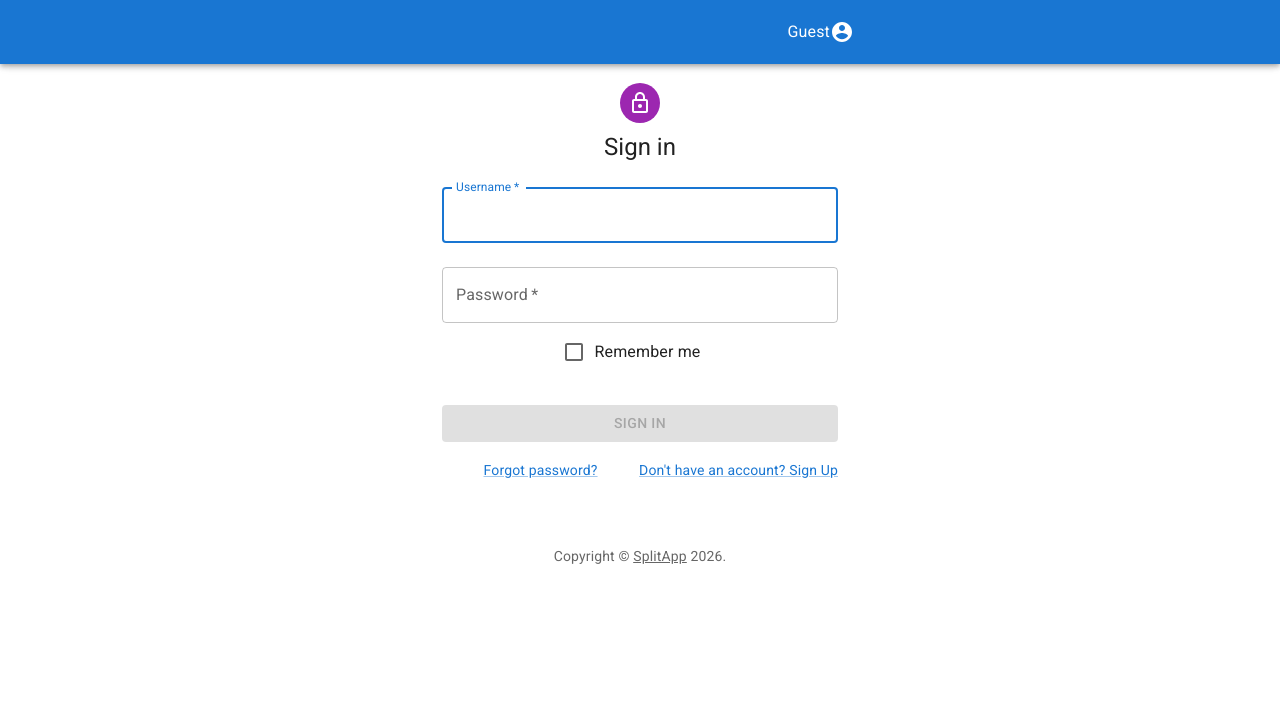
Test: SignIn component › Entering data
The width and height of the screenshot is (1280, 720).
Expected: the password field labelled "Password *" is shown, [442,267,838,323]
Expected: the button "Sign In" is disabled, [442,405,838,442]
Type "Some username" into the field labelled "Username *". click: [640, 215]
box: [442,187,838,243]
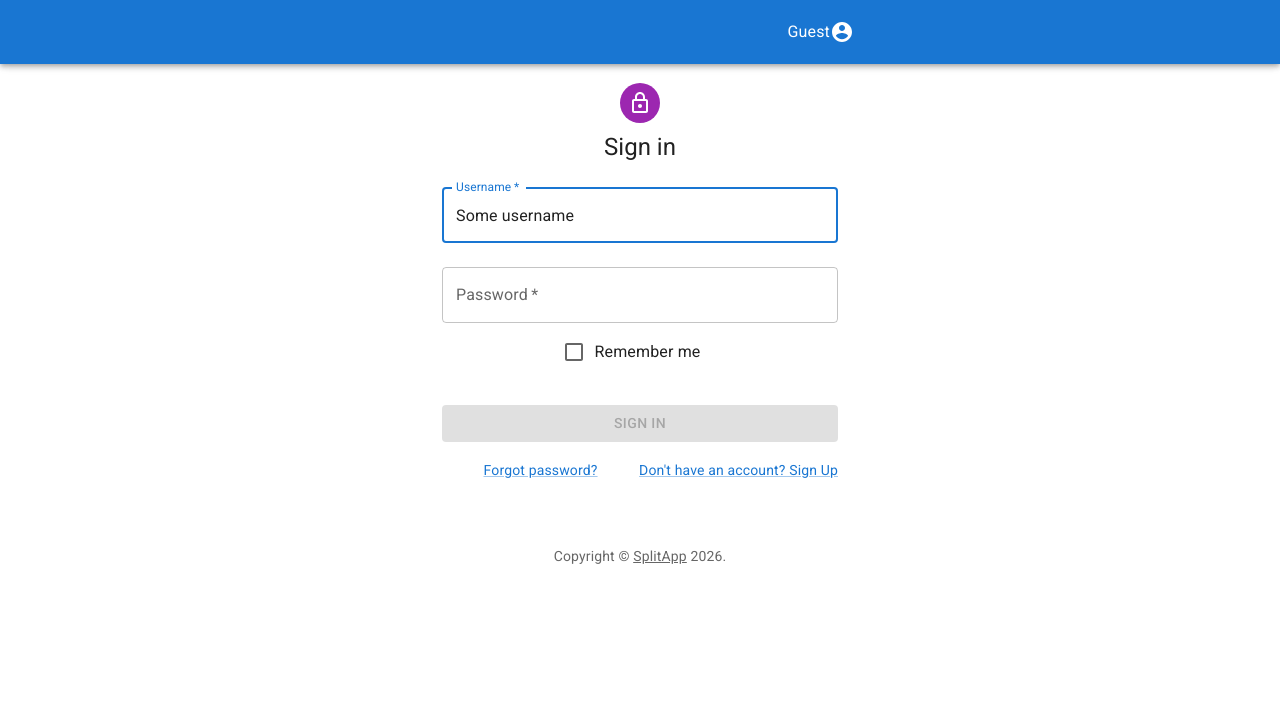
Type "Some passowrd" into the password field labelled "Password *". click: [640, 295]
box: [442,267,838,323]
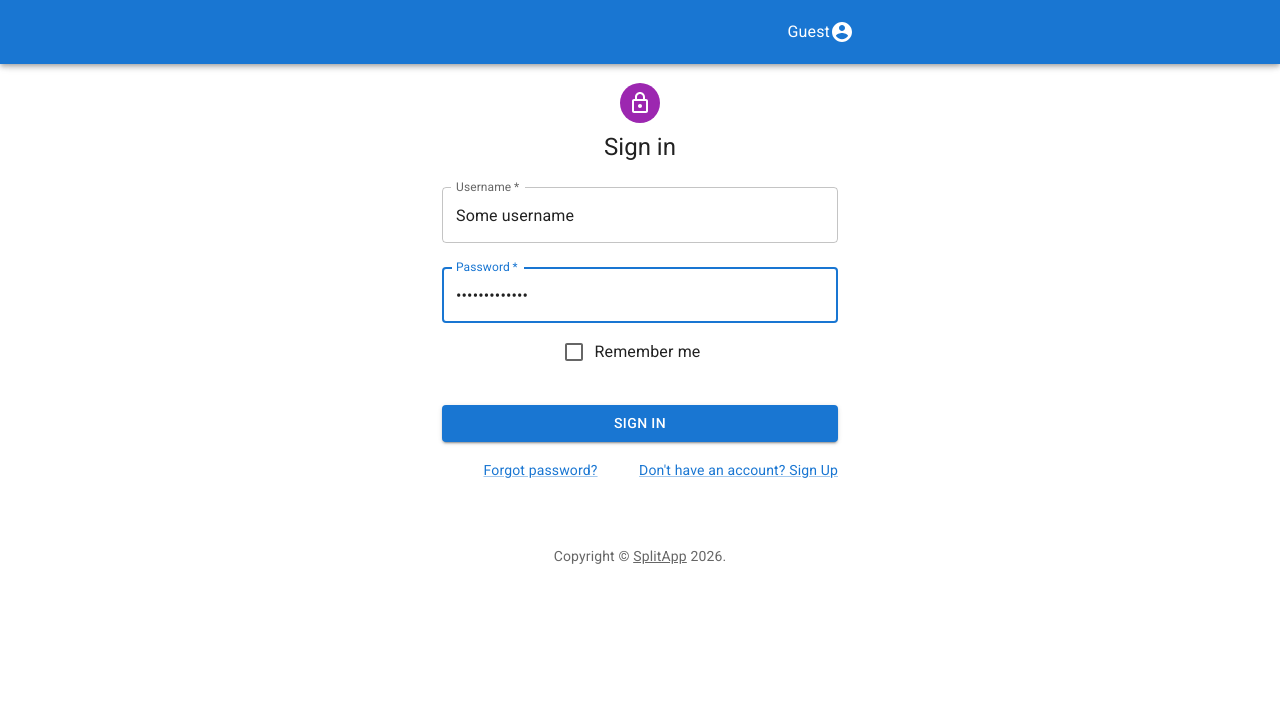
Now the button "Sign In" is enabled, box [442,405,838,442]
